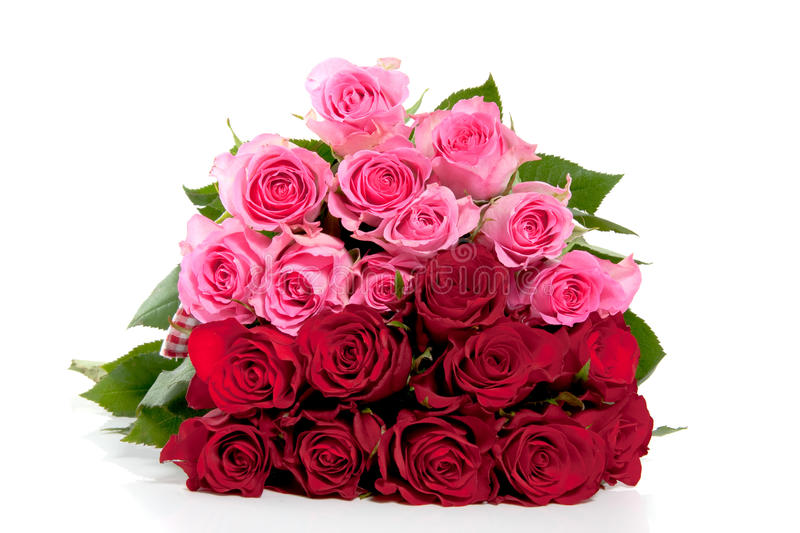RedRose: (379, 405, 516, 511), (423, 326, 567, 415), (292, 305, 412, 405), (171, 404, 283, 499), (276, 406, 384, 504), (178, 317, 298, 405), (496, 413, 607, 507), (415, 235, 508, 330), (573, 382, 653, 482), (575, 315, 649, 386)
